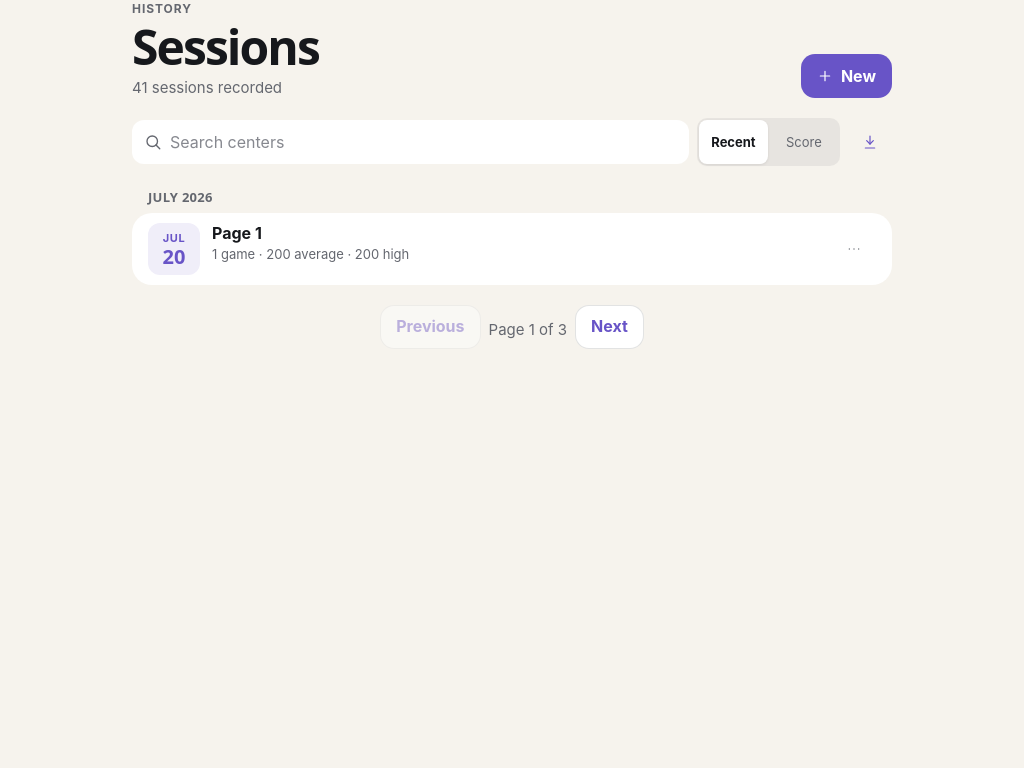
Test case: session list review fixes › returns to the preceding page after deleting the only trailing session
Expected: the text "Page 1" is shown, left=212, top=223, right=262, bottom=243
Click the button "Next": point(610, 327) left=575, top=305, right=644, bottom=349
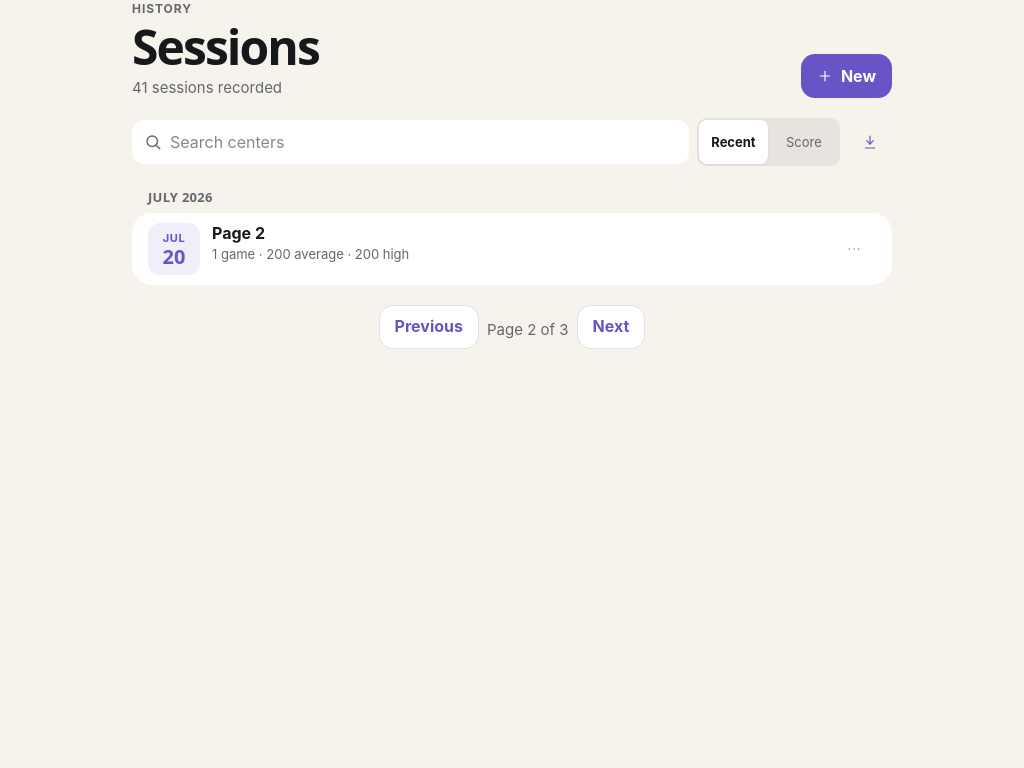
Expected: the text "Page 2" is shown, left=212, top=223, right=265, bottom=243
Click the button "Next": point(611, 327) left=577, top=305, right=645, bottom=349
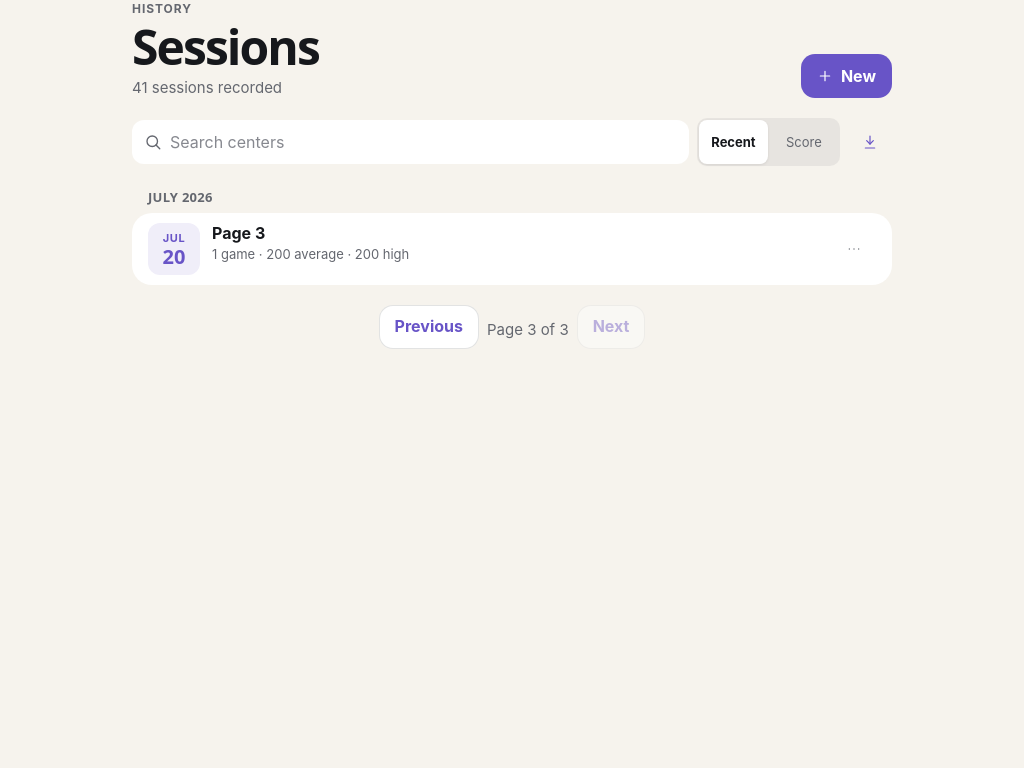
Expected: the text "Page 3" is shown, left=212, top=223, right=265, bottom=243
Expected: the text "Page 3 of 3" is shown, left=487, top=319, right=569, bottom=340
Click the button named "Actions for Page 3": point(854, 249) left=832, top=227, right=876, bottom=271
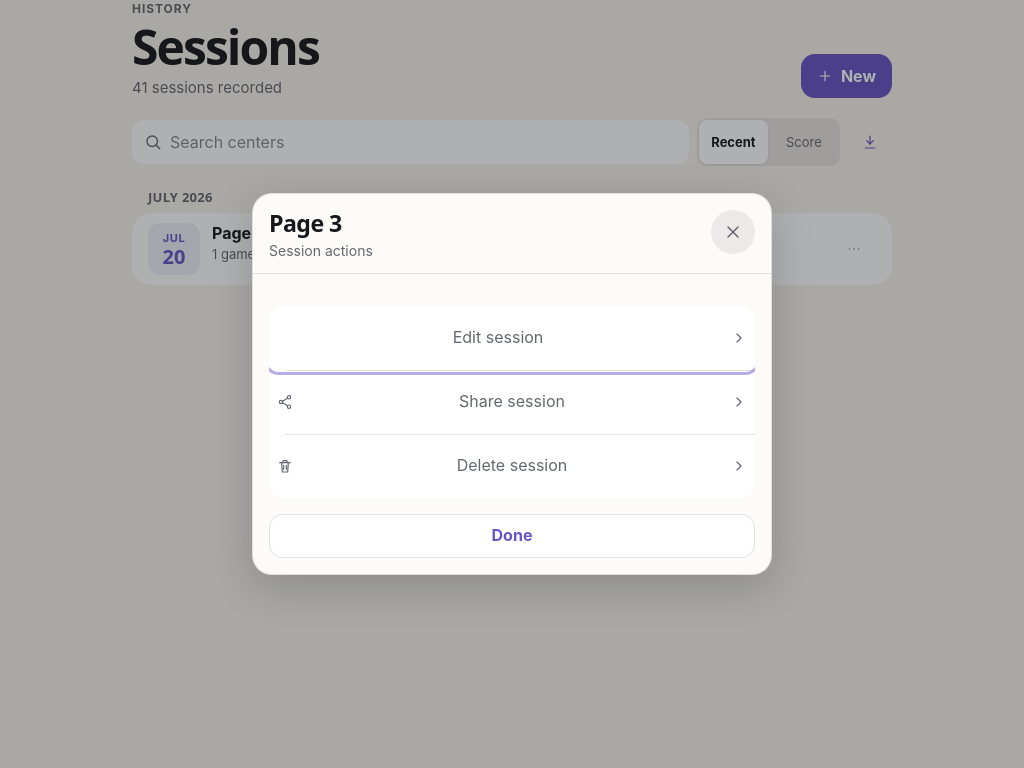
Click the button "Delete session": point(512, 466) left=269, top=434, right=755, bottom=498
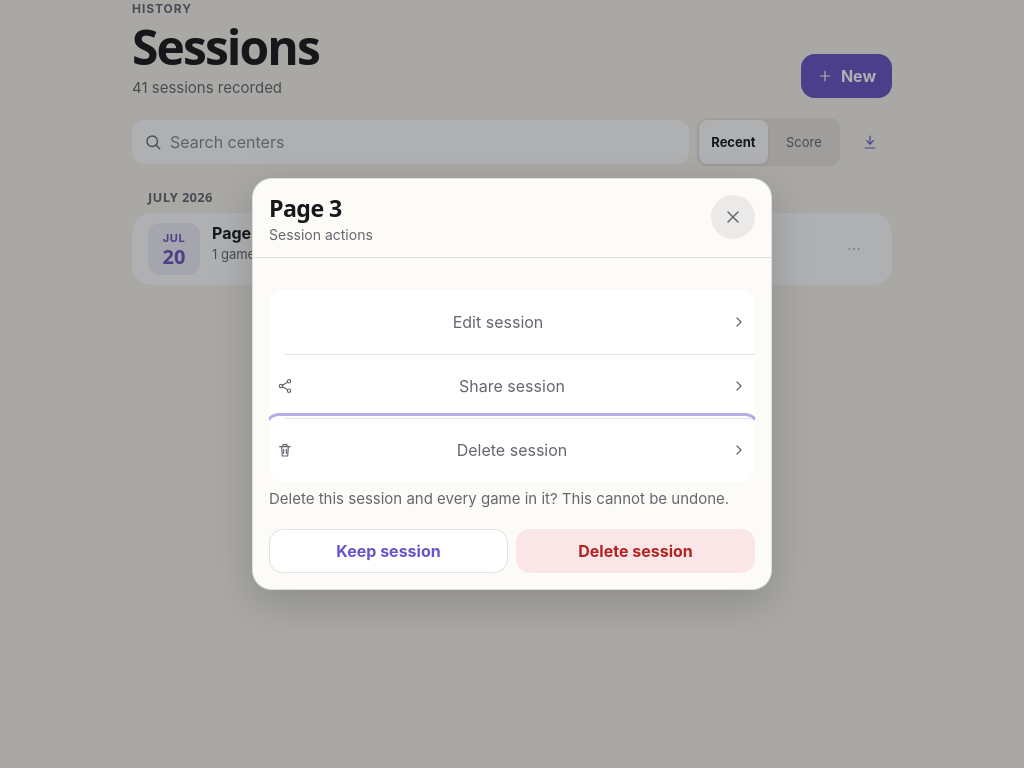
Click the 2nd button "Delete session": point(636, 552) left=516, top=530, right=755, bottom=574
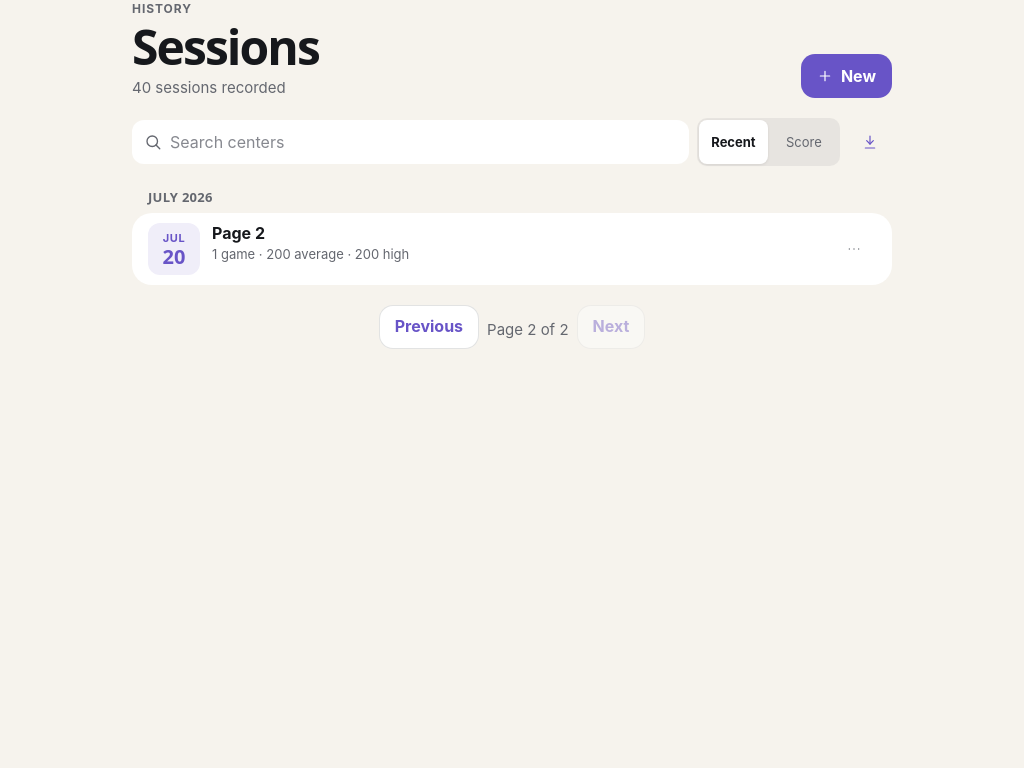
Expected: the text "Page 2 of 2" is shown, left=487, top=319, right=569, bottom=340
